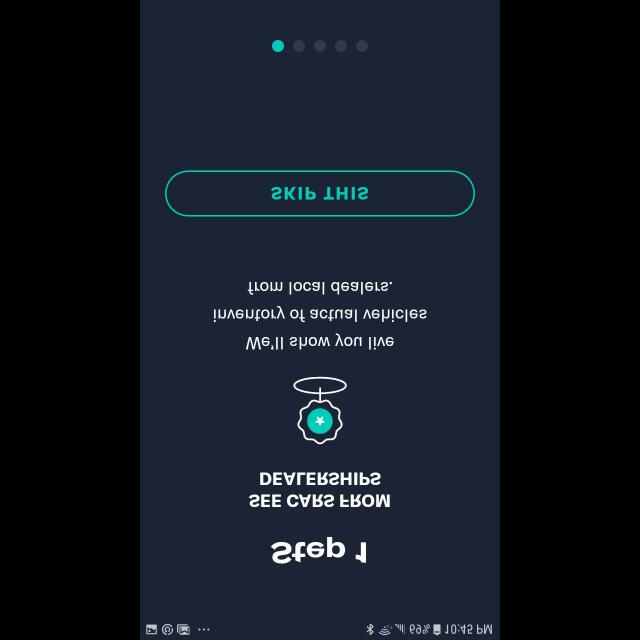image: (293, 376, 347, 444)
pageindicator: (272, 40, 368, 52)
text: (214, 282, 426, 350), (250, 472, 390, 508), (272, 536, 366, 564)
textbutton: (165, 170, 475, 216)
uppertaskbar: (140, 622, 500, 640)
